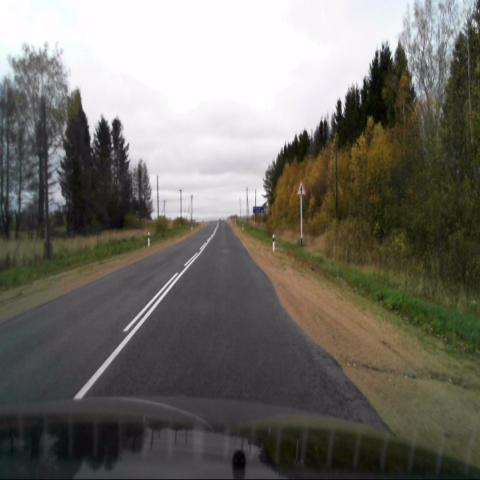2_3: (296, 178, 306, 196)
